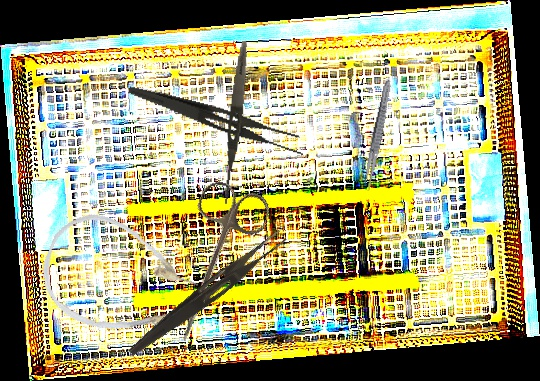Cannula: (28, 201, 209, 358)
Dressing Forceps: (126, 223, 288, 365), (123, 85, 309, 158), (219, 40, 252, 206), (361, 78, 394, 193)
Iris Scissors: (154, 177, 274, 353)
